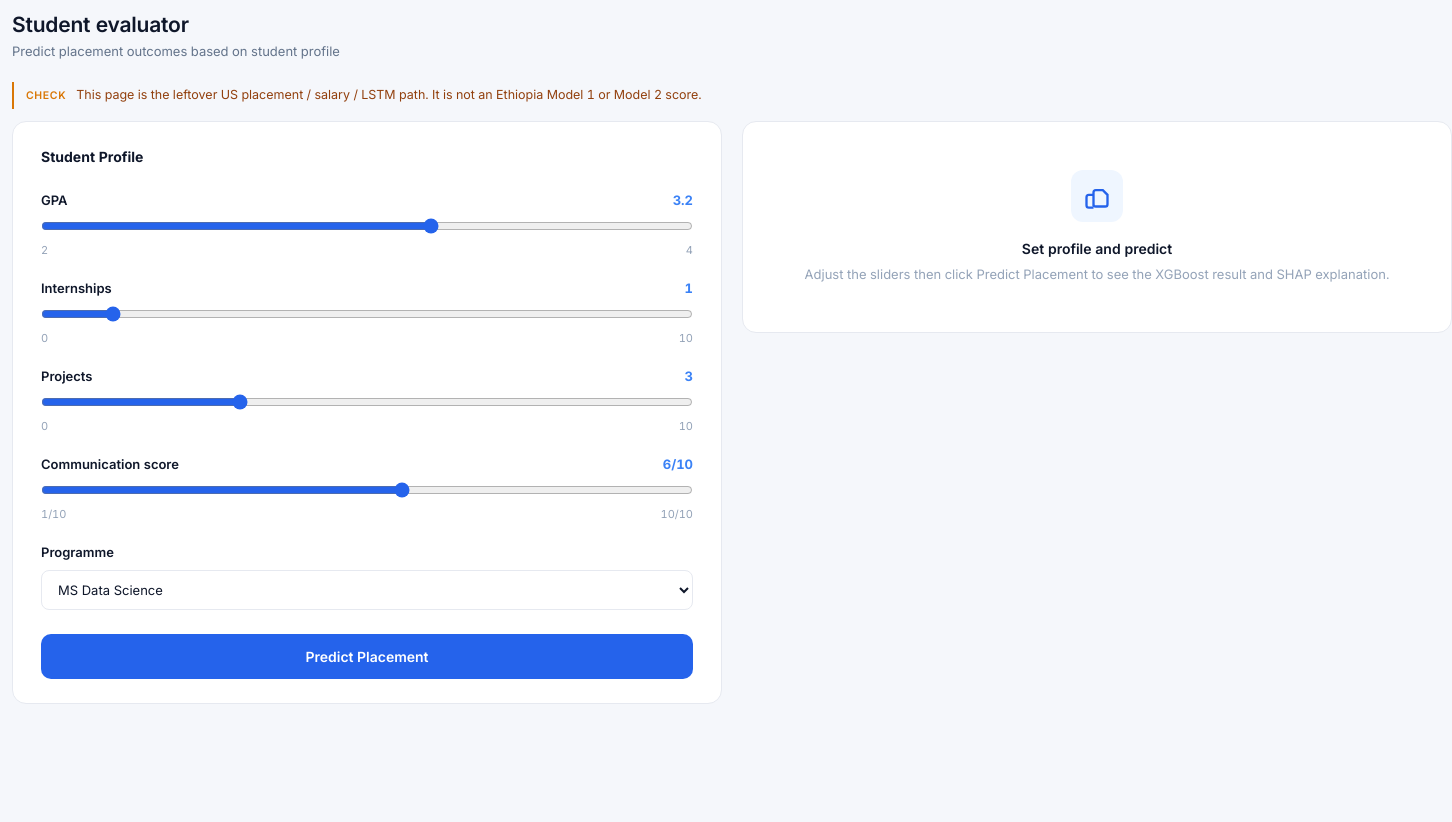
Test: StudentEvaluatorPage — error handling › shows error message when prediction API fails
The image size is (1452, 822).
Click the button "Predict Placement": click(367, 656) [41,634,693,679]
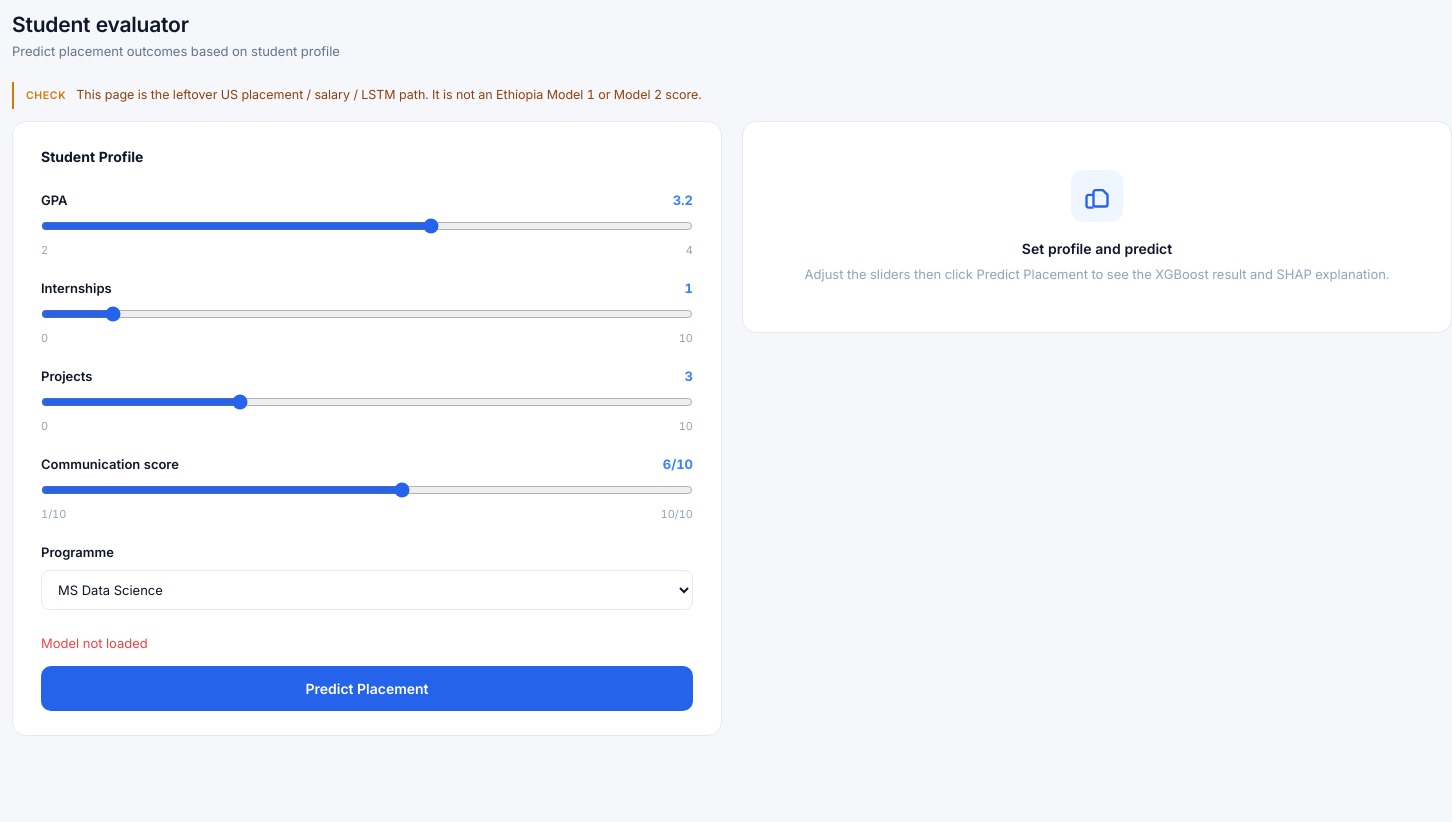
expect the text "Model not loaded" is shown: met, box [41,635,148,651]
